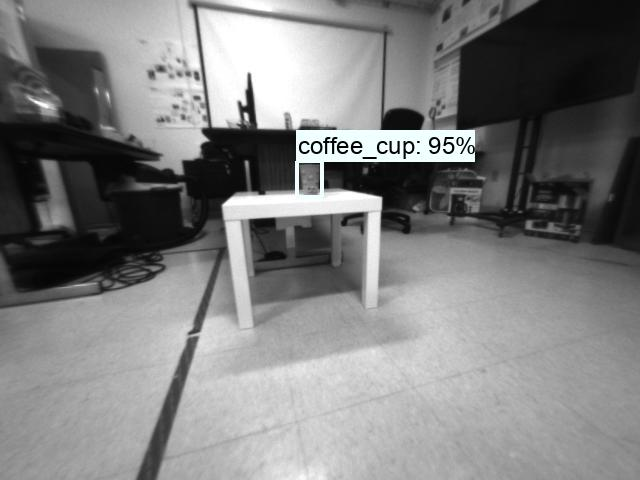coffee_cup: (297, 162, 322, 196)
